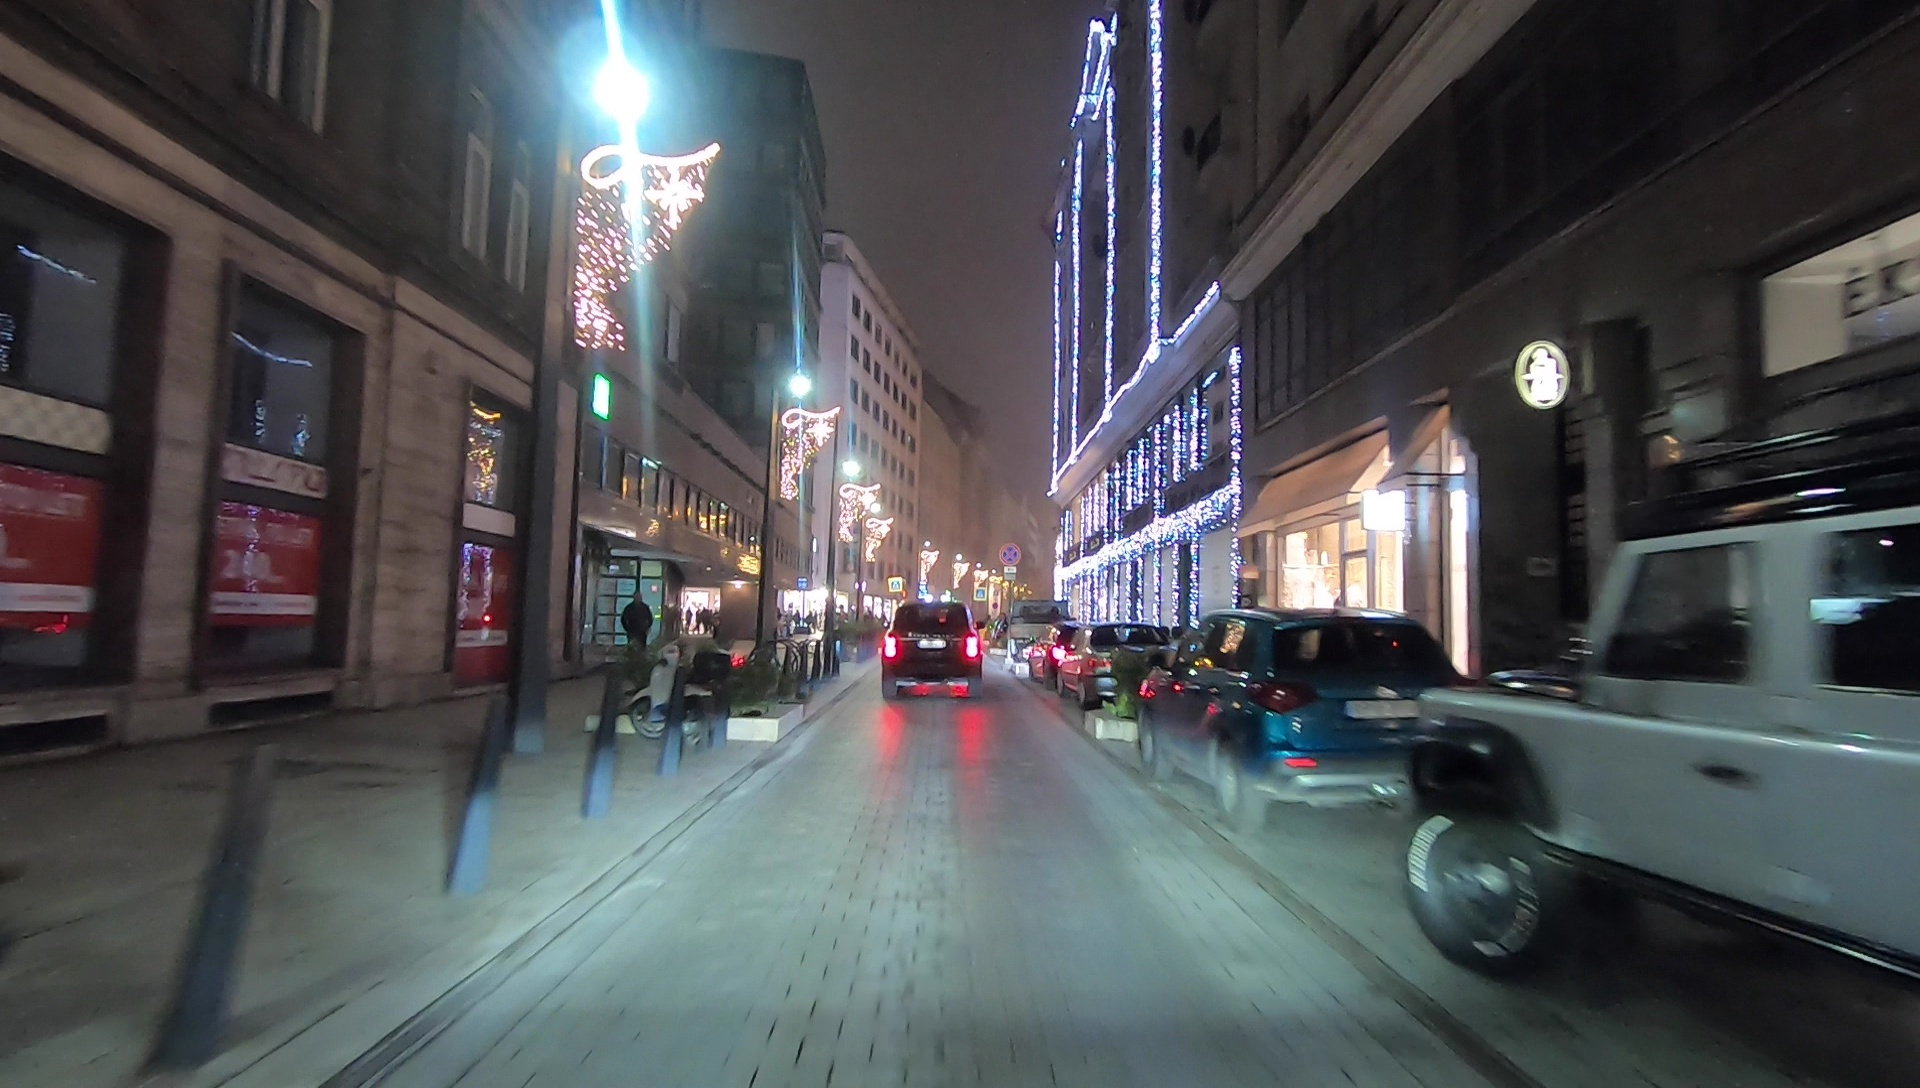person: (622, 594, 651, 668)
